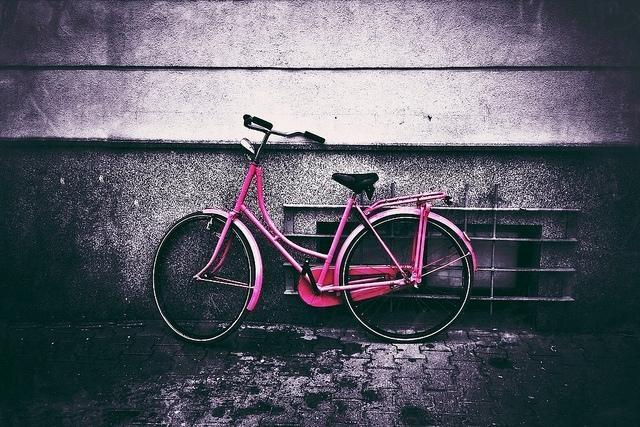bicycle: (154, 118, 471, 343)
